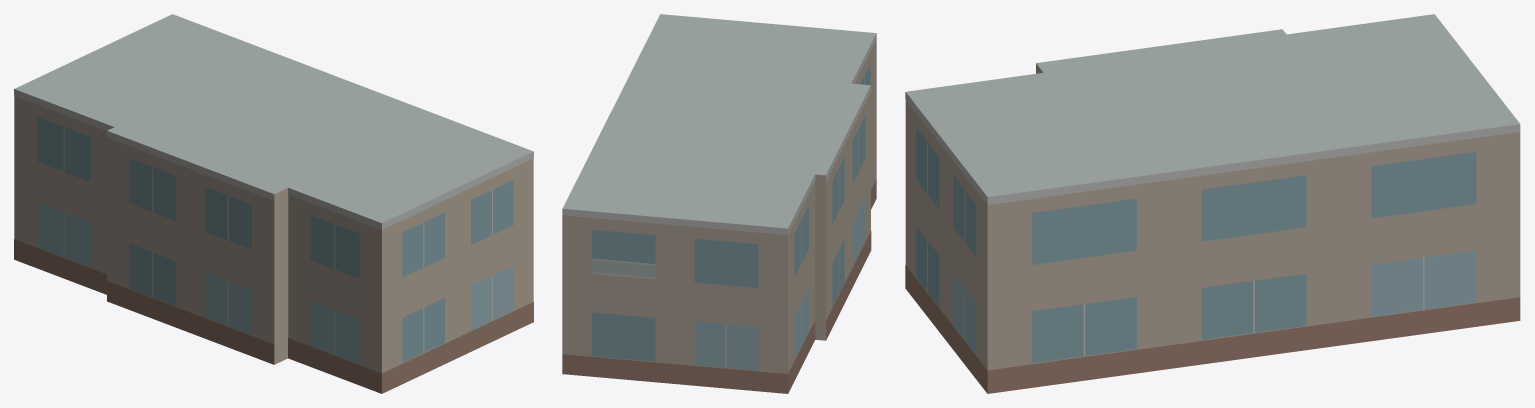
File: survey-upis-32721270.glb
3 views of the same model, side by side, from view 1: azimuth 30°, elevation 25°; view 2: azimuth 150°, elevation 25°; view 3: azimuth 270°, elevation 25° (orthographic). The views are drawn at different scales.
Parts seen in each view (by area): view 1: survey-upis-32721270.tmp; view 2: survey-upis-32721270.tmp; view 3: survey-upis-32721270.tmp.
Part boxes in pixels (bbox=[...]): survey-upis-32721270.tmp: bbox=[14, 14, 533, 393]; survey-upis-32721270.tmp: bbox=[562, 14, 876, 393]; survey-upis-32721270.tmp: bbox=[905, 14, 1520, 393].
Bounding box in the file's own units: 12.2 × 6.1 × 17.3.
